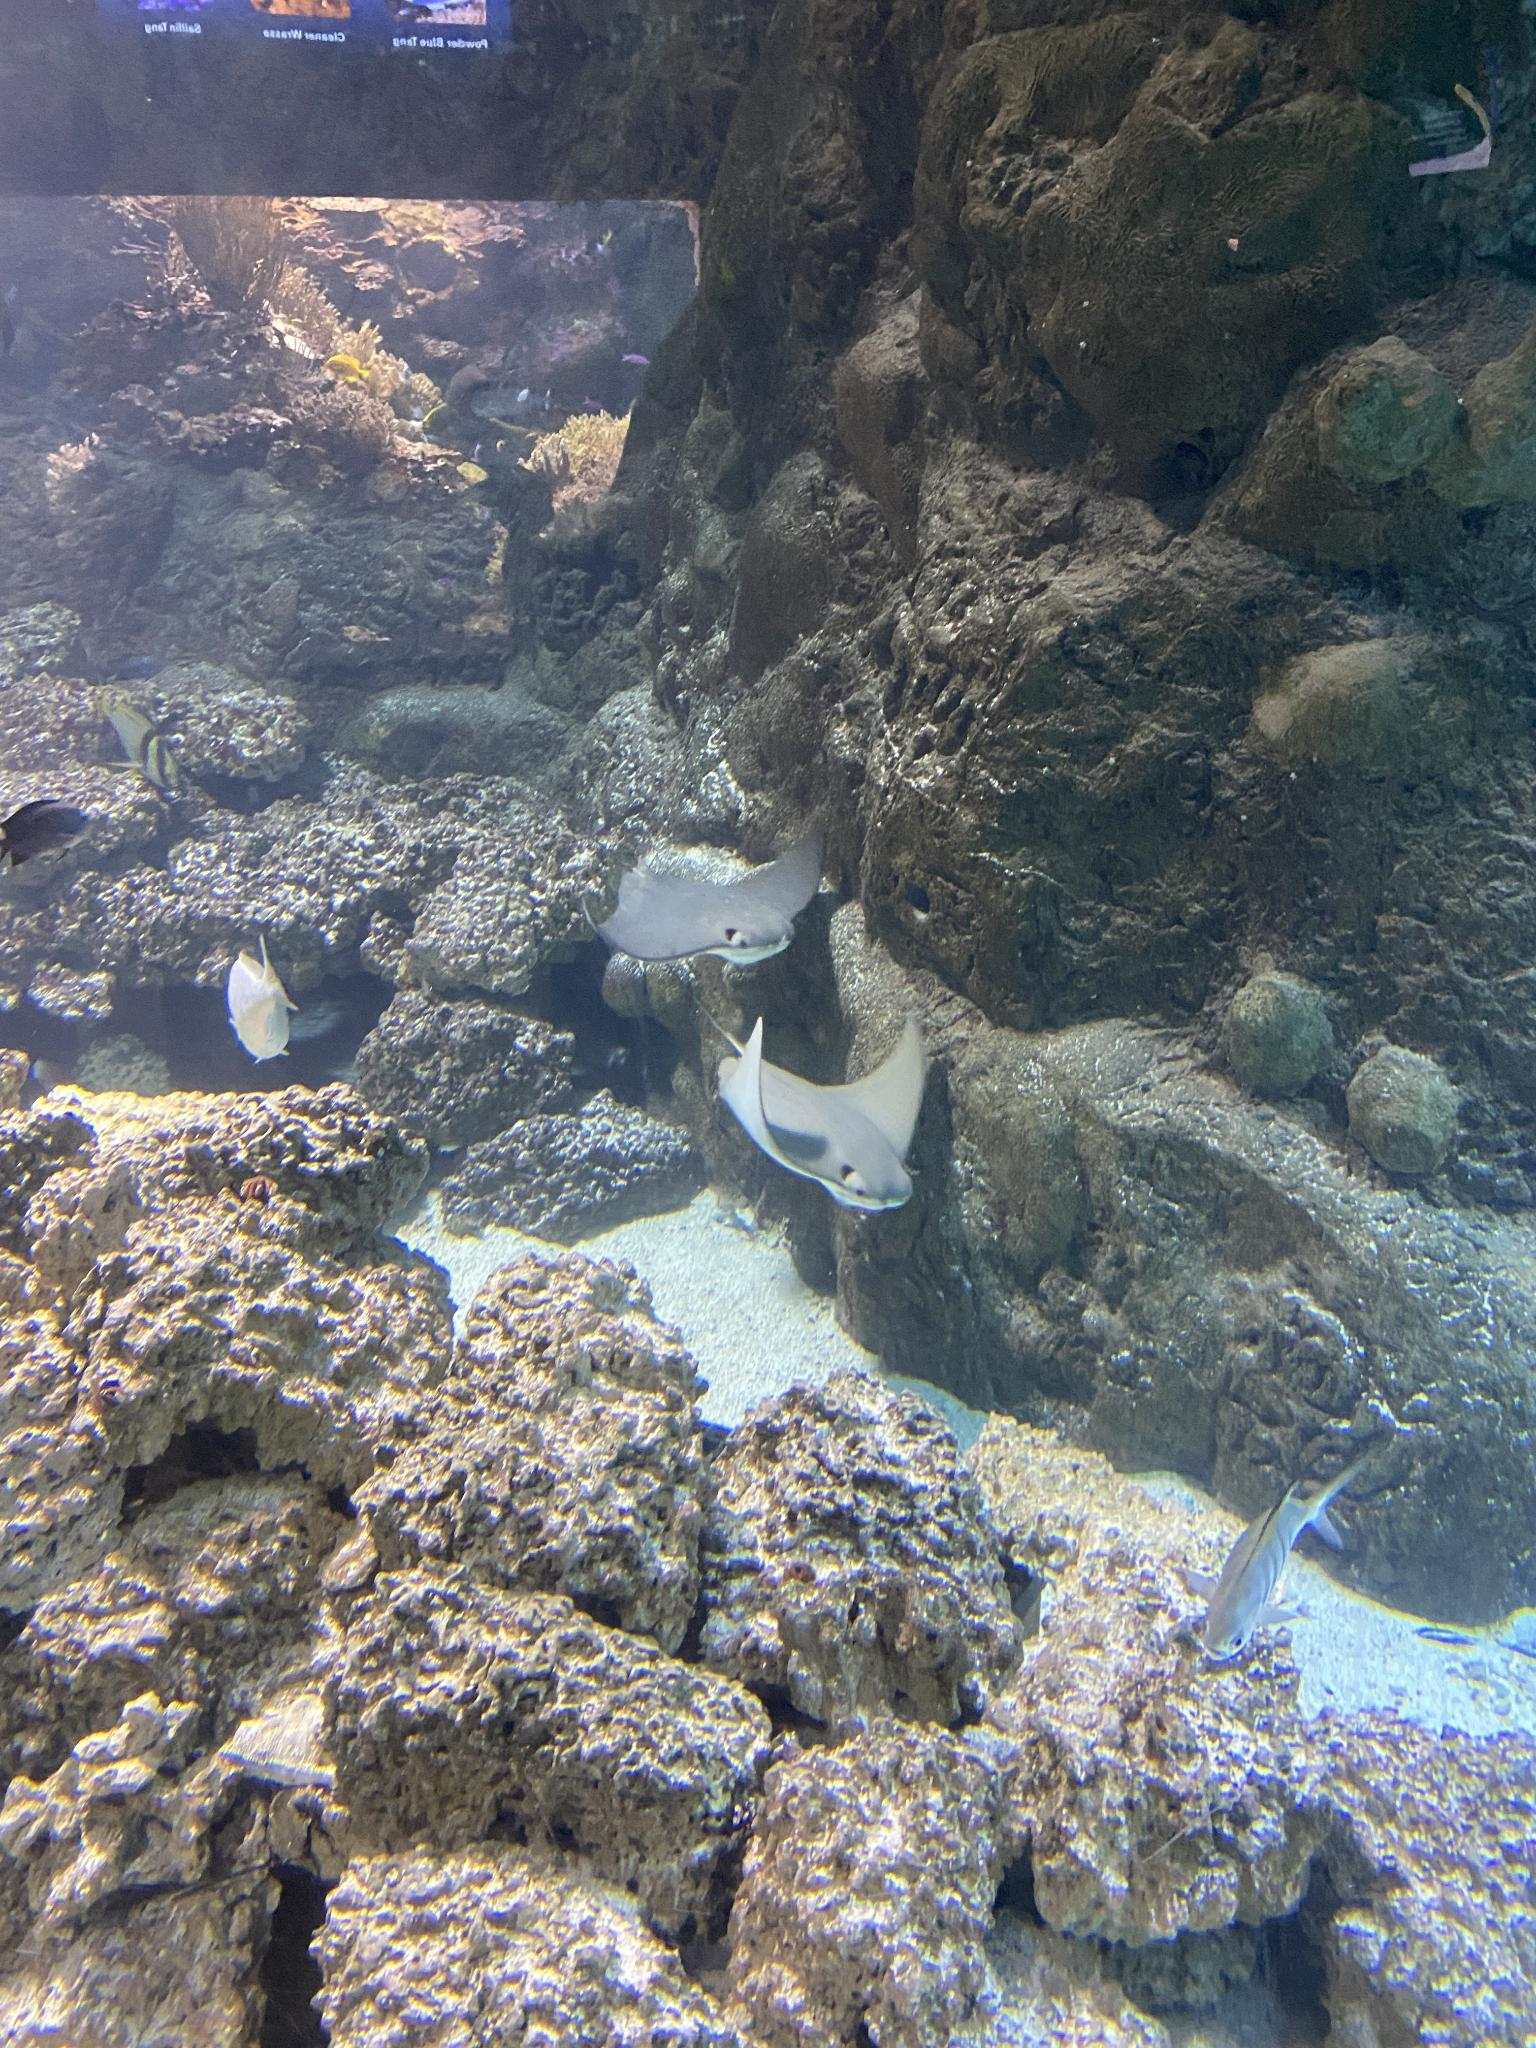fish: (1204, 1451, 1367, 1661), (227, 937, 295, 1061), (0, 801, 92, 868)
stingray: (716, 1014, 925, 1211), (594, 850, 828, 966)
